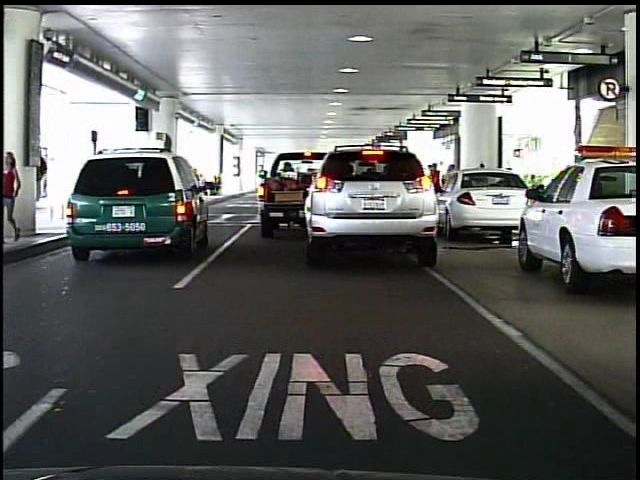person: (4, 149, 30, 248)
